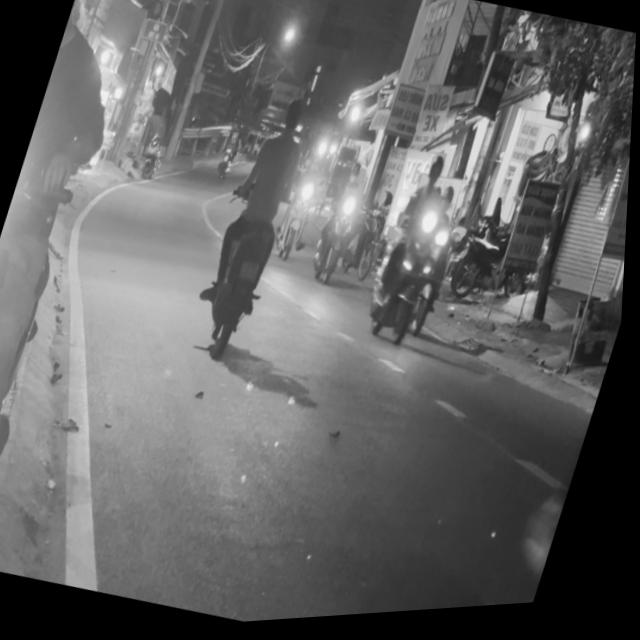helmet: (427, 155, 451, 190)
licenseplate: (186, 84, 328, 368), (359, 148, 479, 360)
motorcyclist: (282, 95, 312, 139)
